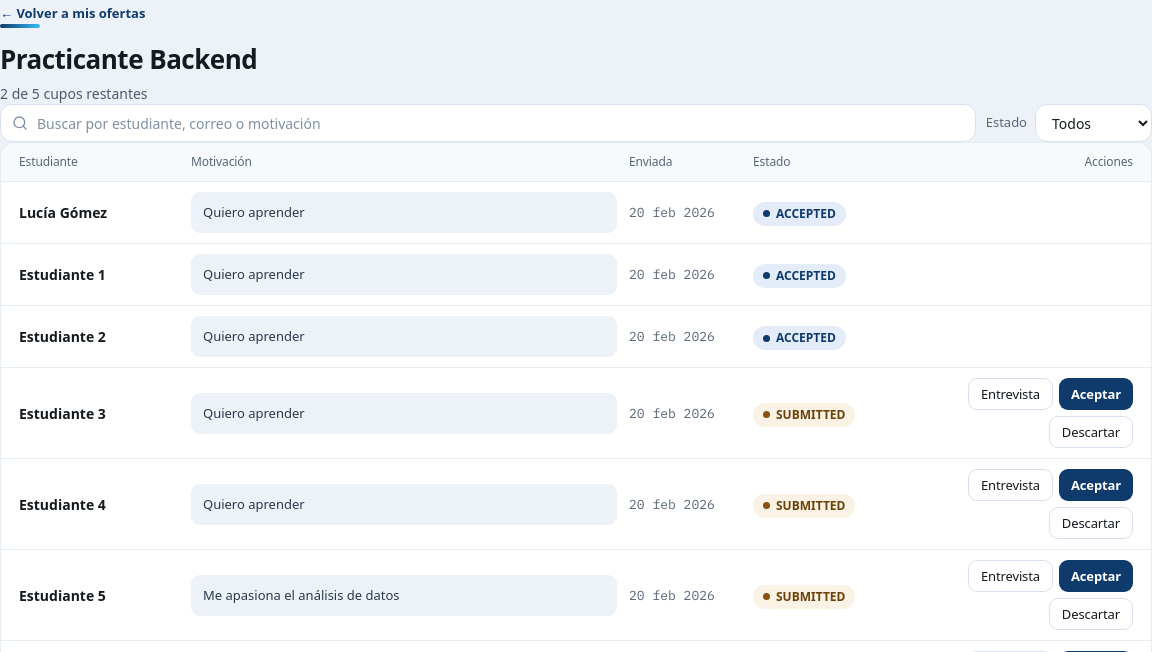
Test: OfferApplicationsPage › searches by name or motivation and filters by status
Step 1. Type "analisis" into the search field → (488, 123), box [0,104,976,142]
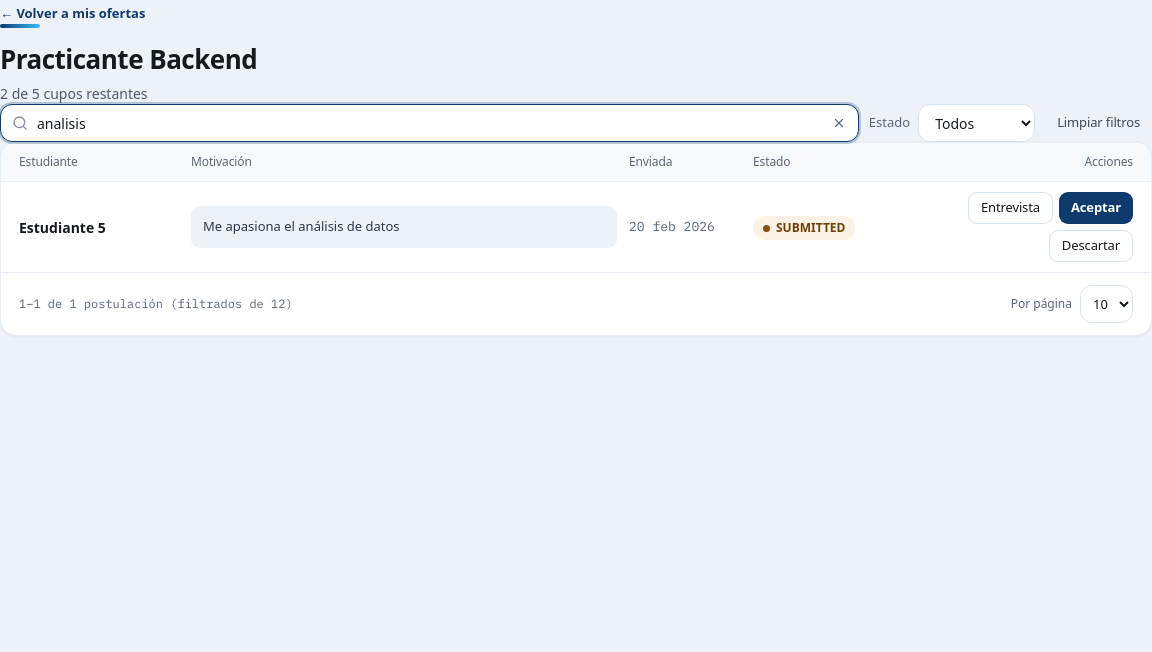
Expected: the text "Me apasiona el análisis de datos" is shown, [191,206,617,248]
Expected: the text "1–1 de 1 postulación (filtrados de 12)" is shown, [19,295,293,313]
Step 2. Clear the search field → (429, 123), box [0,104,859,142]
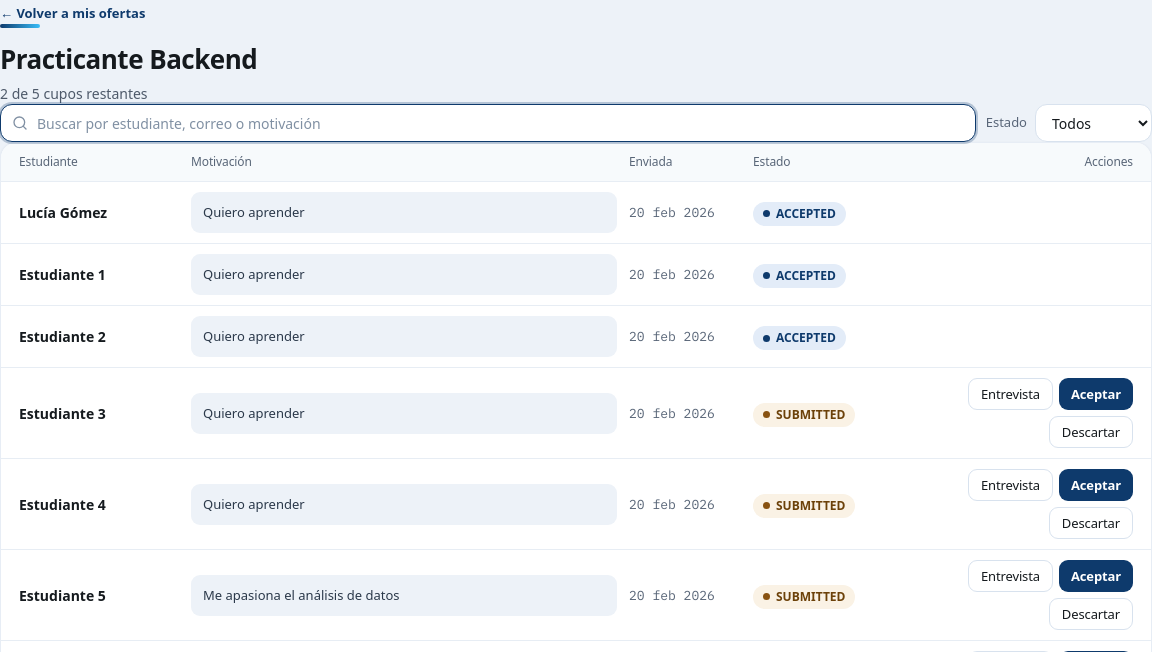
Step 3. Select "Aceptada" in the dropdown labelled "Estado" → (1094, 123), box [1035,104,1151,142]
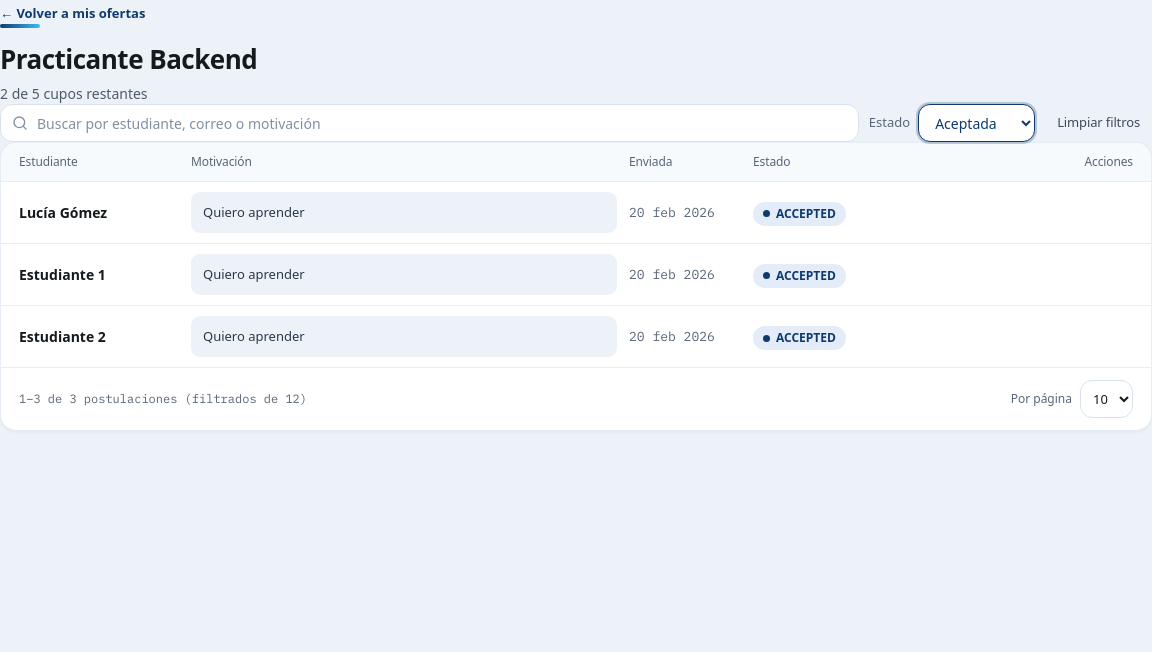
Expected: the text "Lucía Gómez" is shown, [19,203,107,222]
Expected: the text "1–3 de 3 postulaciones (filtrados de 12)" is shown, [19,390,307,408]
